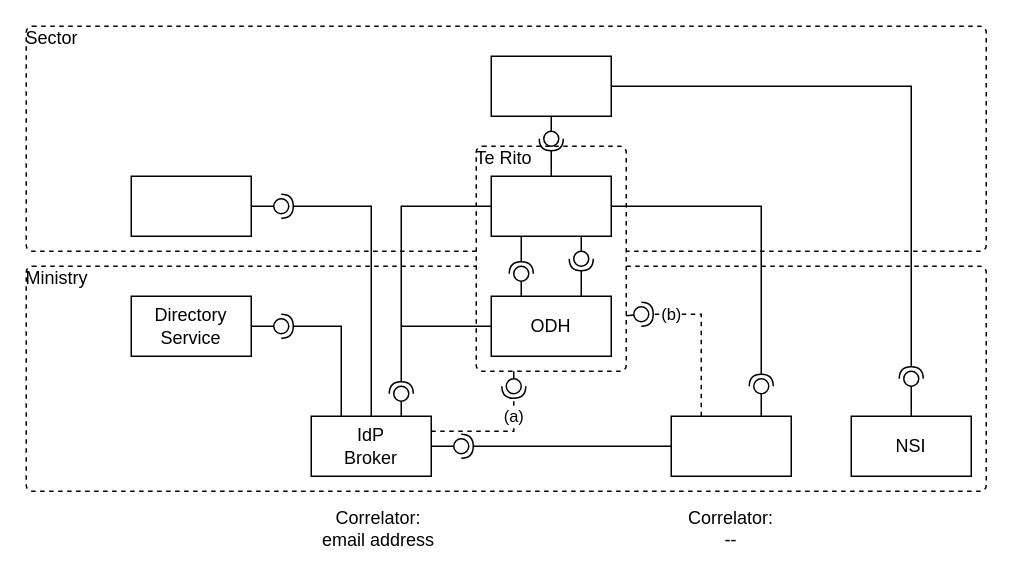
Some shapes in this 1013 by 578 pixel diagram are drawn without their labels. The centre of each missing label's shape, as x and y in pixels:
Context Service (e.g. Te Rito): the point at 730,445
IdP: the point at 190,205
LDH: the point at 550,205
SMS: the point at 550,85
